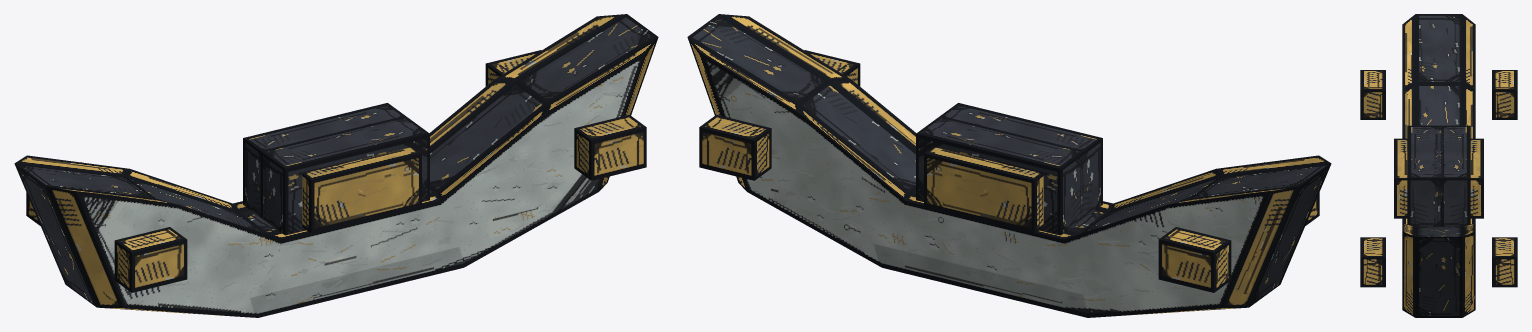
Rendered from accessory_flared_cleave_guard.glb.
The picture shows the model from 3 angles, left to right: view 1: azimuth 30°, elevation 25°; view 2: azimuth 150°, elevation 25°; view 3: azimuth 270°, elevation 25°; orthographic projection. The views are drawn at different scales.
Parts seen in each view (by area): view 1: accessory_flared_cleave_guard; view 2: accessory_flared_cleave_guard; view 3: accessory_flared_cleave_guard.
Part boxes in pixels (x1=…): accessory_flared_cleave_guard: x1=14, y1=14, x2=658, y2=317; accessory_flared_cleave_guard: x1=687, y1=14, x2=1331, y2=317; accessory_flared_cleave_guard: x1=1360, y1=14, x2=1517, y2=317.
Bounding box in the file's own units: 0.72 × 0.2 × 0.215.
1 material, 1 textured.
